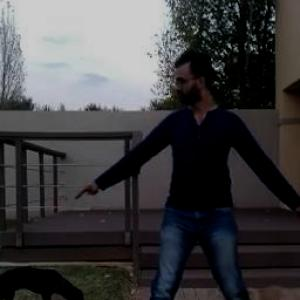land: (84, 42, 299, 299)
